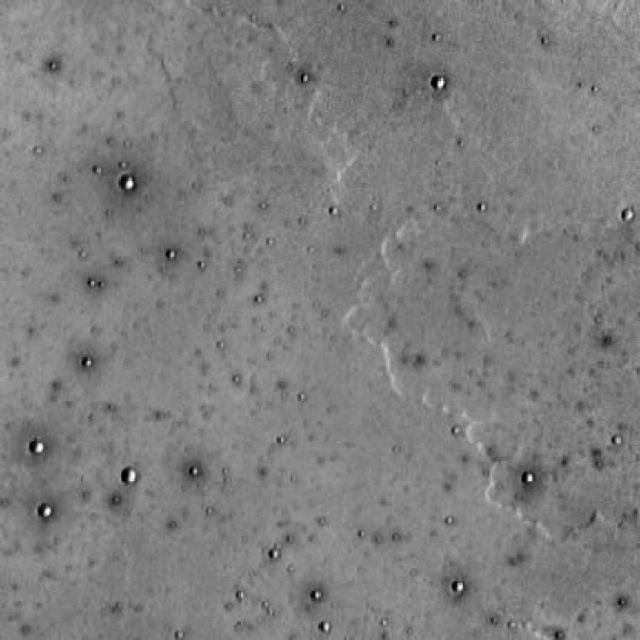crater: (116, 176, 132, 193)
